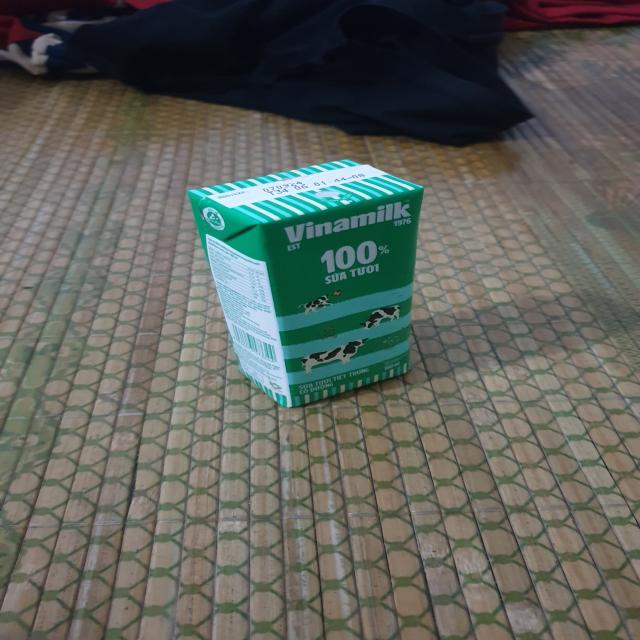Vina: (182, 157, 431, 411)
